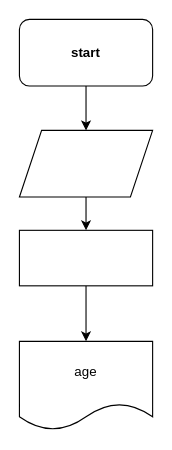
This 172x450 diagram has some shape labels left out. The centre of each missing label's shape, as x and y in pixels:
age=year-birthyear: (x=85, y=257)
int birthyear int year int age: (x=85, y=163)
